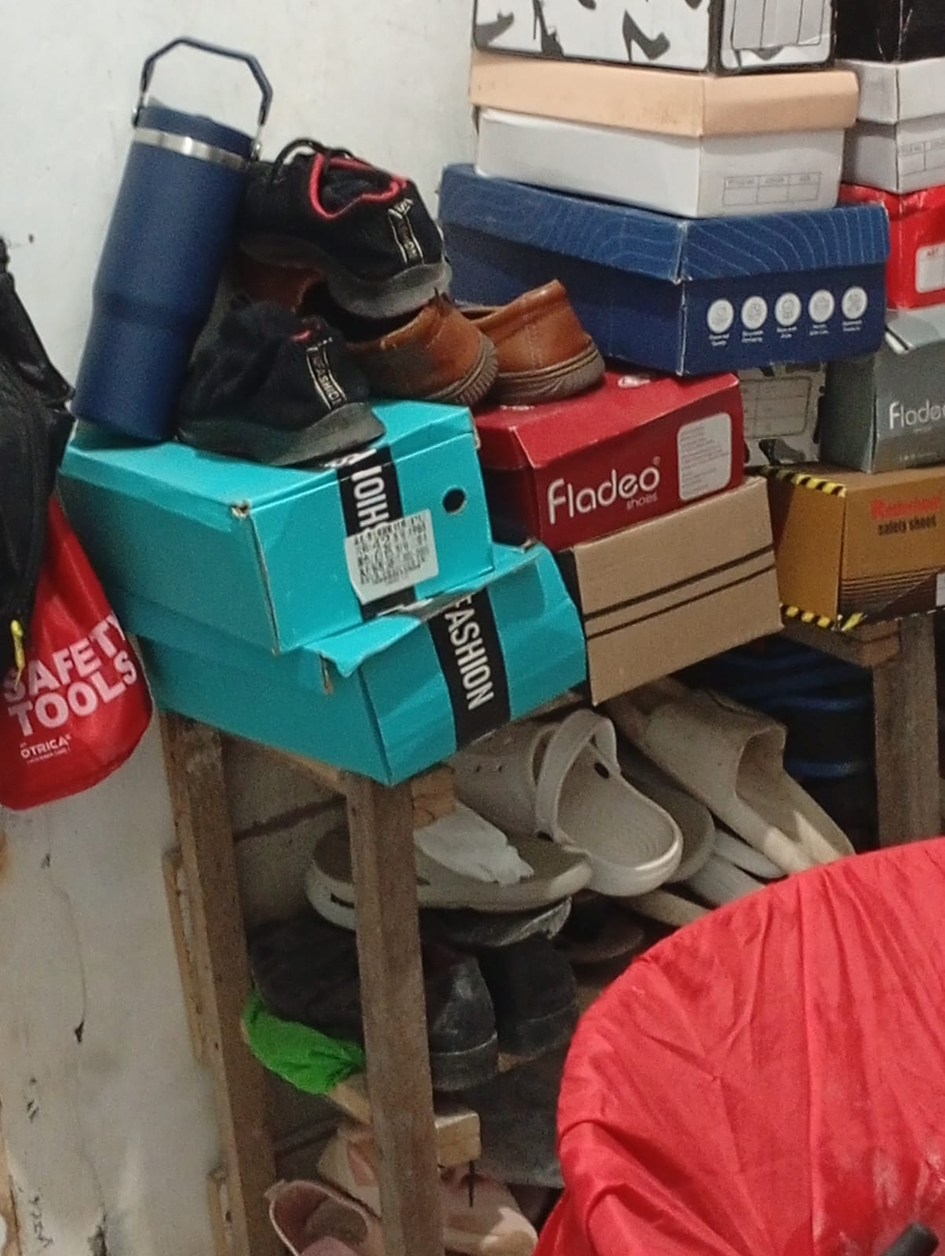Tupperware: (44, 31, 352, 448)
